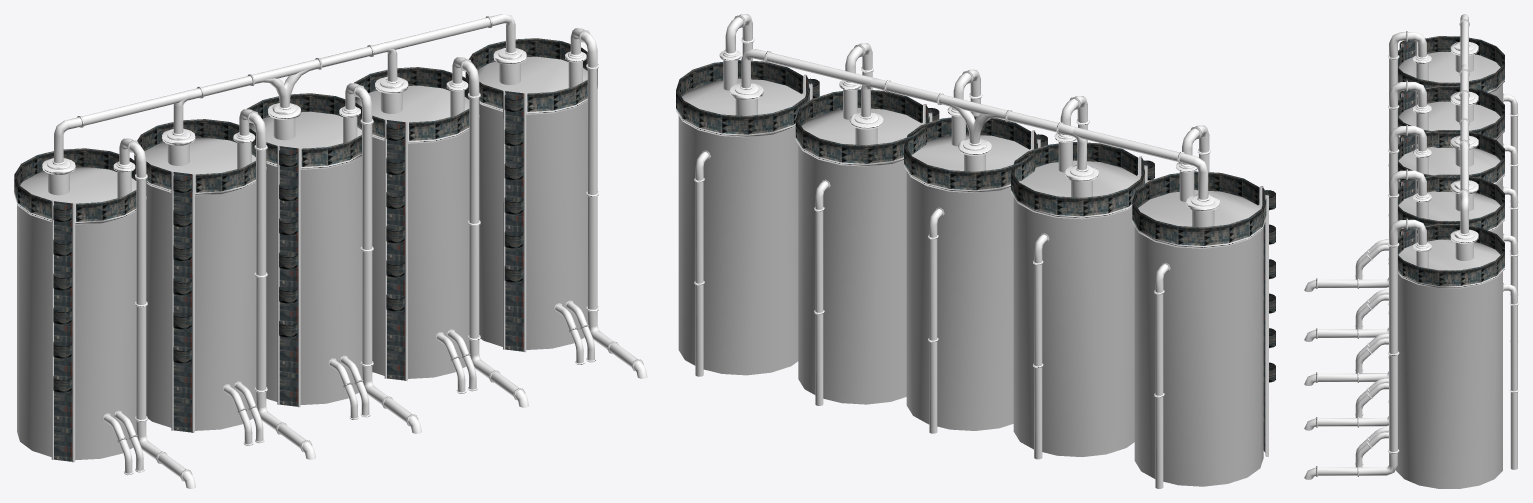
File: tank_anbau_04.fbx
The picture shows the model from 3 angles, left to right: view 1: azimuth 30°, elevation 25°; view 2: azimuth 150°, elevation 25°; view 3: azimuth 270°, elevation 25°; orthographic projection. The views are drawn at different scales.
Parts seen in each view (by area): view 1: tankanbau_04_3er, tankanbau_04_2er; view 2: tankanbau_04_3er, tankanbau_04_2er; view 3: tankanbau_04_3er, tankanbau_04_2er.
Part boxes in pixels (x1=…): tankanbau_04_3er: x1=14, y1=14, x2=647, y2=488; tankanbau_04_2er: x1=134, y1=43, x2=528, y2=459; tankanbau_04_3er: x1=676, y1=14, x2=1275, y2=488; tankanbau_04_2er: x1=795, y1=43, x2=1154, y2=459; tankanbau_04_3er: x1=1304, y1=14, x2=1518, y2=488; tankanbau_04_2er: x1=1304, y1=64, x2=1518, y2=430.
Size of the model in its own units: 2977 by 1556 by 1151.
